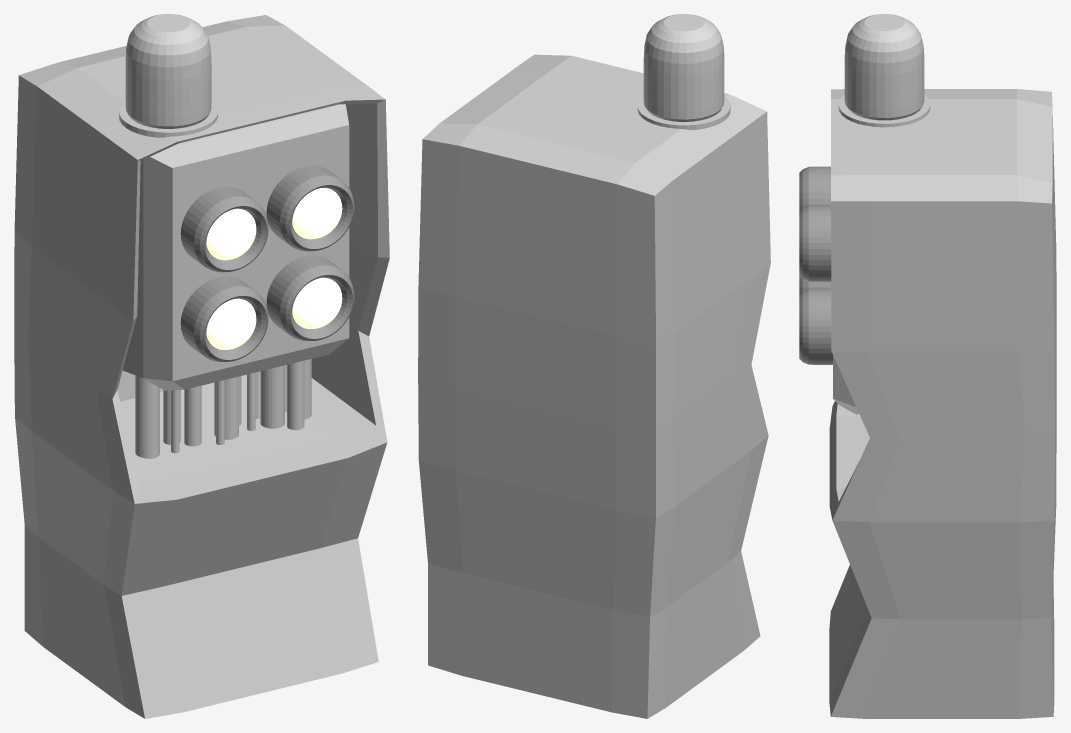
The model's file is fusebox.fbx.
3 views of the same model, side by side, from view 1: azimuth 30°, elevation 25°; view 2: azimuth 150°, elevation 25°; view 3: azimuth 270°, elevation 25° (orthographic). The views are drawn at different scales.
Parts seen in each view (by area): view 1: Cube.001, Cube, Cylinder.018, Cylinder, Cylinder.003, Cylinder.001, Cylinder.002, Cylinder_001, Cylinder_001.003, Cylinder_001.001, Cylinder_001.002, Cylinder.007 (+5 smaller); view 2: Cube.001, Cylinder.018, Cylinder.017; view 3: Cube.001, Cylinder.018, Cylinder.002, Cylinder.001, Cylinder, Cylinder.017, Cube.
Part boxes in pixels (x1,y1,x2,y2): Cube.001: (14,15,389,718); Cube: (122,104,349,390); Cylinder.018: (125,14,211,128); Cylinder: (180,186,268,272); Cylinder.003: (180,276,268,361); Cylinder.001: (266,165,354,251); Cylinder.002: (266,255,354,340); Cylinder_001: (206,208,256,260); Cylinder_001.003: (206,298,256,349); Cylinder_001.001: (292,188,342,239); Cylinder_001.002: (292,277,342,328); Cylinder.007: (135,375,159,458); Cube.001: (418,54,770,718); Cylinder.018: (643,14,724,121); Cylinder.017: (637,96,730,130); Cube.001: (829,89,1056,718); Cylinder.018: (844,14,924,120); Cylinder.002: (799,288,832,364); Cylinder.001: (799,205,831,281); Cylinder: (799,166,830,210); Cylinder.017: (838,95,930,127); Cube: (833,355,858,414).
Size of the model in its own units: 120 by 298 by 112.
